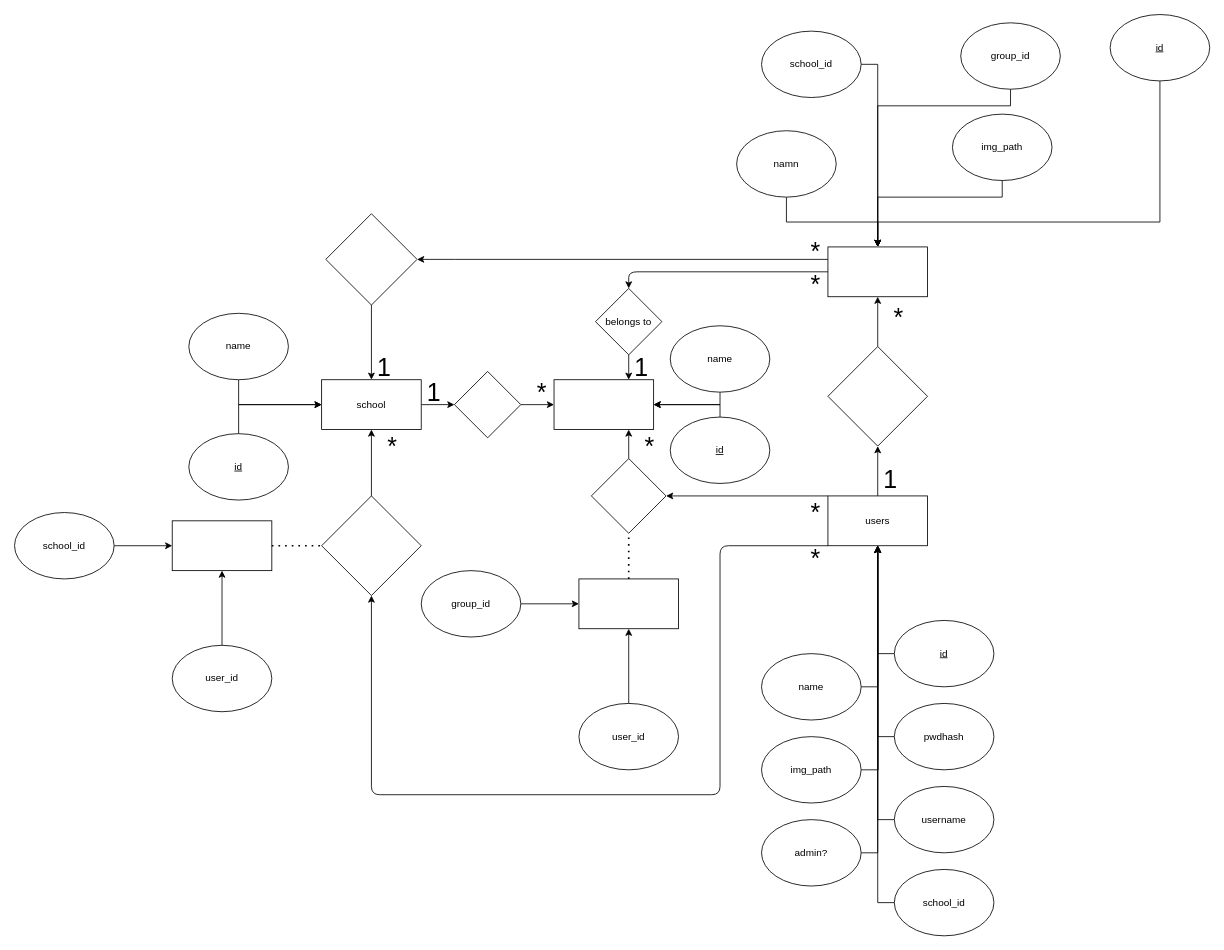
Some shapes in this 1224 by 950 pixel diagram are drawn without their labels. The centre of each missing label's shape, as x and y in pixels:
create/remove: (877,396)
goes to: (371,259)
groups: (603,404)
has: (487,404)
students: (877,271)
teaches: (628,495)
user/group: (628,603)
user/school: (221,545)
works at: (371,545)
